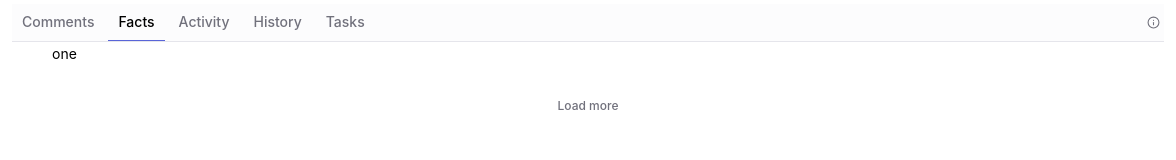
MemoryTabs › pages a list by adding to it, keeping what is shown
Check: the text "one" is shown, box [52, 45, 77, 62]
Click the button "Load more" at x=588, y=106, box [550, 92, 626, 120]
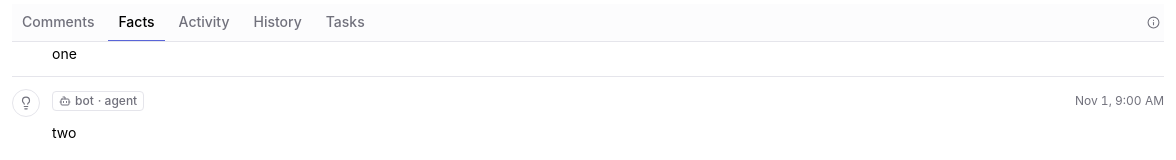
Check: the text "one" is shown, box [52, 45, 77, 62]
Check: the text "two" is shown, box [52, 124, 76, 141]
Check: the button "Load more" is gone
